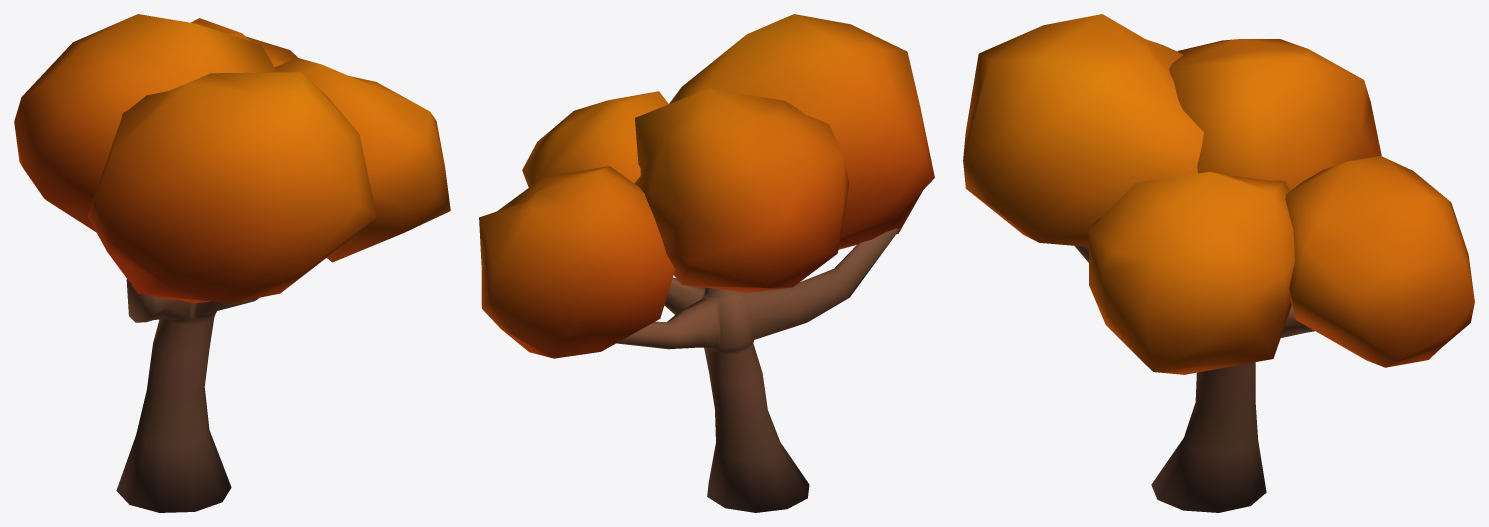
The model's file is Tree_7.fbx.
The picture shows the model from 3 angles, left to right: view 1: azimuth 30°, elevation 25°; view 2: azimuth 150°, elevation 25°; view 3: azimuth 270°, elevation 25°; orthographic projection. The views are drawn at different scales.
Visible parts, largest first — view 1: Tree_7; view 2: Tree_7; view 3: Tree_7.
Part boxes in pixels (x1,y1,x2,y2): Tree_7: (14, 14, 450, 512); Tree_7: (479, 14, 934, 512); Tree_7: (963, 14, 1474, 512).
Size of the model in its own units: 392 by 444 by 451.
